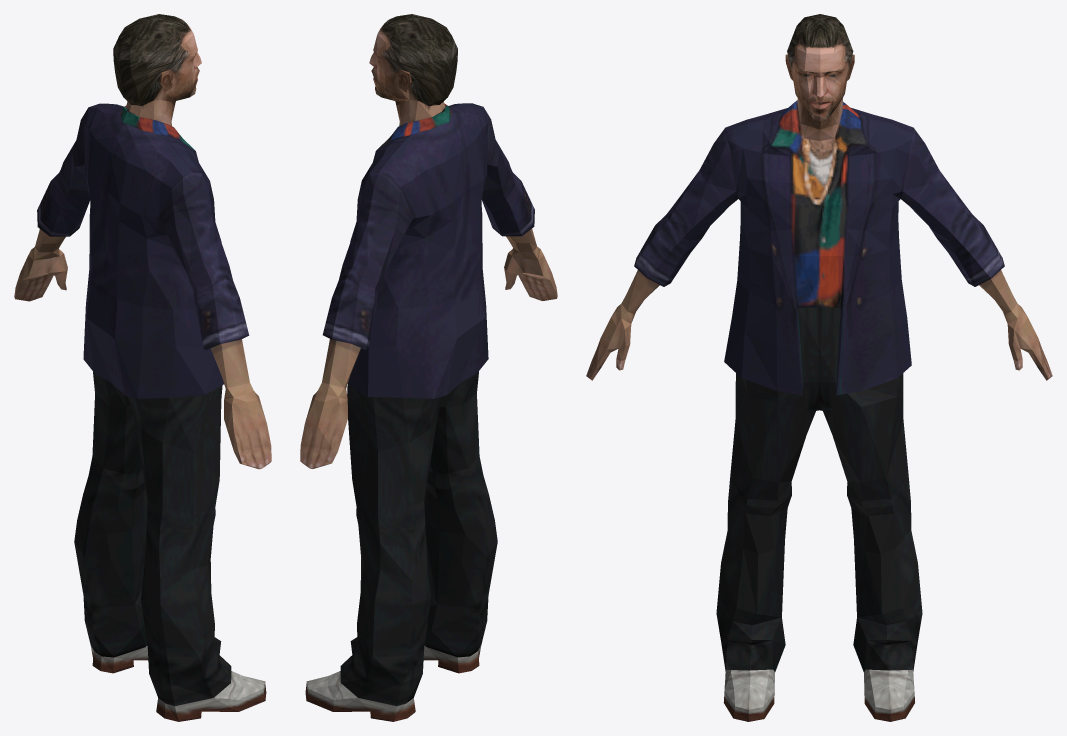
Rendered from andre.obj.
3 renders of one model, left to right at view 1: azimuth 30°, elevation 25°; view 2: azimuth 150°, elevation 25°; view 3: azimuth 270°, elevation 25°, orthographic.
Visible parts, largest first — view 1: _Pelvis; view 2: _Pelvis; view 3: _Pelvis.
Part boxes in pixels (x1,y1,x2,y2): _Pelvis: [14, 14, 271, 721]; _Pelvis: [300, 14, 557, 721]; _Pelvis: [586, 14, 1052, 721].
Size of the model in its own units: 0.3753 by 1.84 by 1.17.
1 material, 1 textured.
